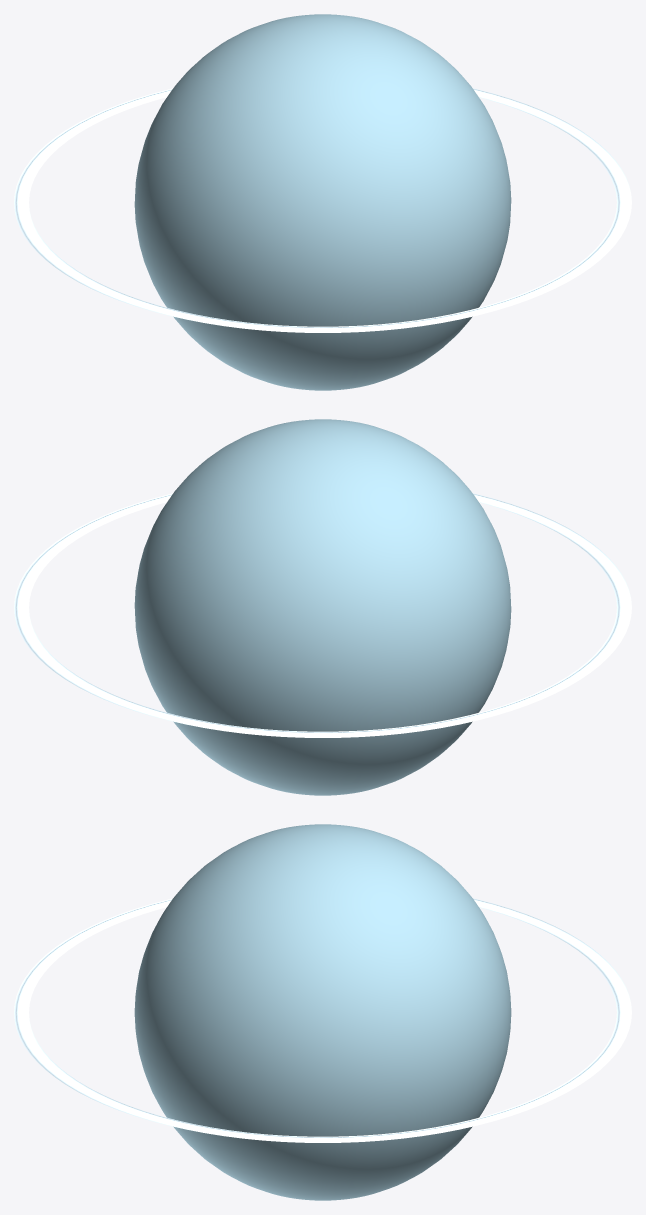
The model's file is planet-ice.glb.
3 views of the same model, one above another, from view 1: azimuth 30°, elevation 25°; view 2: azimuth 150°, elevation 25°; view 3: azimuth 270°, elevation 25° (orthographic).
Visible parts, largest first — view 1: Planet_Ice, Planet_Ice_Ring; view 2: Planet_Ice, Planet_Ice_Ring; view 3: Planet_Ice, Planet_Ice_Ring.
Boxes of the visible parts, box(x1,y1,x2,y2) form: Planet_Ice: box(134, 14, 511, 390); Planet_Ice_Ring: box(14, 88, 631, 332); Planet_Ice: box(134, 419, 511, 795); Planet_Ice_Ring: box(14, 493, 631, 737); Planet_Ice: box(134, 824, 511, 1200); Planet_Ice_Ring: box(14, 898, 631, 1142).
Bounding box in the file's own units: 3.28 × 2 × 3.28.
